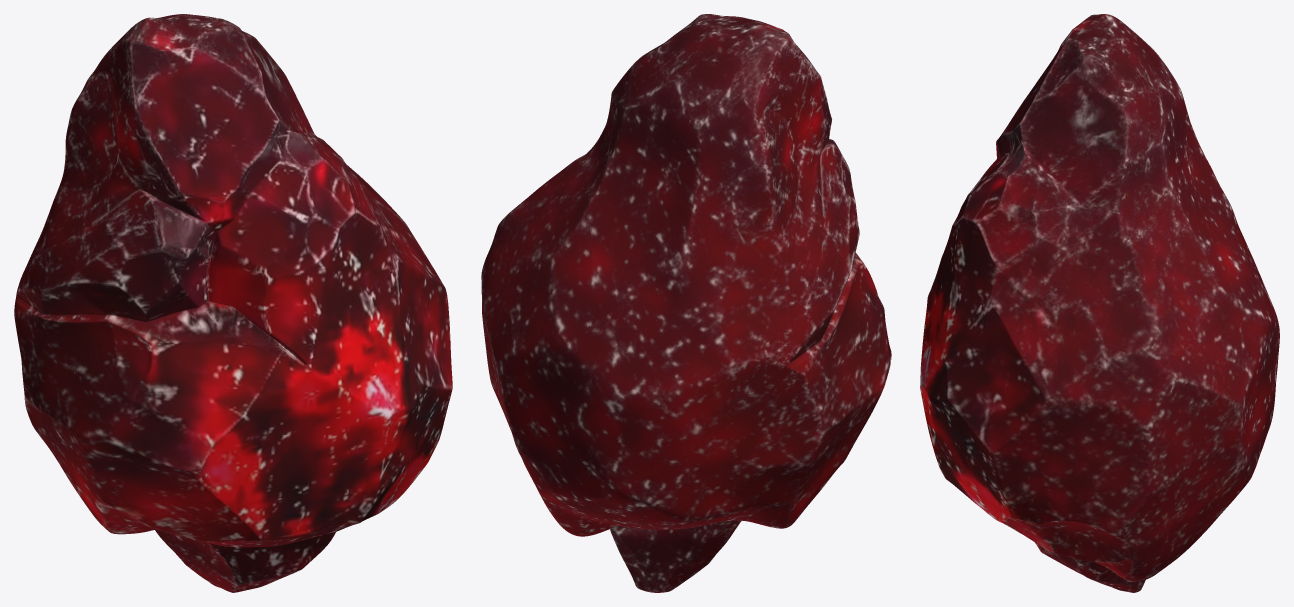
Rendered from red.glb.
The picture shows the model from 3 angles, left to right: view 1: azimuth 30°, elevation 25°; view 2: azimuth 150°, elevation 25°; view 3: azimuth 270°, elevation 25°; orthographic projection. The views are drawn at different scales.
Bounding box in the file's own units: 1.21 × 1.9 × 1.17.
1 material, 1 textured.
